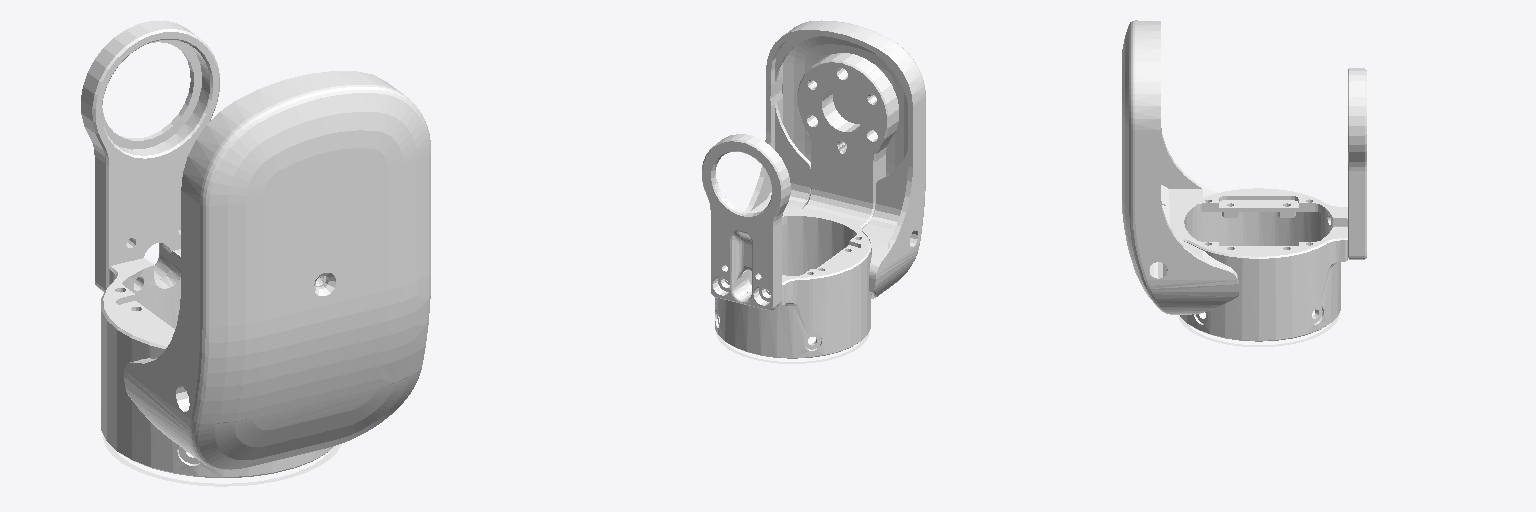
robot.urdf — my_robot:
<robot name="my_robot">
  <link name="base_link">
    <visual>
      <origin xyz="0 0 0" rpy="0 0 0"/>
      <geometry>
        <mesh filename="package://kuavo_assets/models/biped_s47/meshes/r_hand_pitch.STL" />
      </geometry>
      <material name="white">
        <color rgba="1 1 1 1"/>
      </material>
    </visual>
  </link>
</robot>

--- What the picture shows (computed from the rendered views, not written in the file) ---
3 views of the same robot in one strip: view 1: azimuth 30°, elevation 25°; view 2: azimuth 150°, elevation 25°; view 3: azimuth 270°, elevation 25° (orthographic).
Model my_robot with 1 links and 0 joints (none), rooted at base_link, posed every joint at zero.
Links seen in each view (by area): view 1: base_link; view 2: base_link; view 3: base_link.
Boxes of the visible links, x1,y1,x2,y2 form: base_link: [81, 20, 430, 486]; base_link: [702, 20, 925, 363]; base_link: [1122, 20, 1366, 346].
Bounding box of the posed robot: 0.067 × 0.1015 × 0.1437 m (x, y, z).
1 mesh visuals loaded from 1 distinct referenced files (1 binary STL).